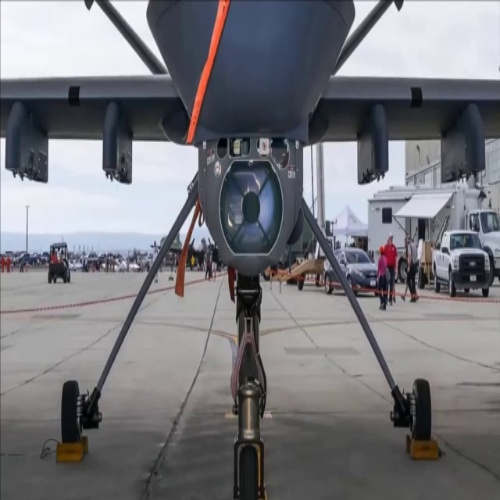uav900: (1, 2, 489, 497)
